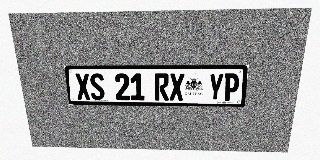1: (129, 73, 144, 100)
2: (115, 73, 130, 100)
P: (223, 73, 240, 101)
R: (154, 73, 169, 100)
S: (89, 73, 105, 100)
X: (75, 73, 91, 100), (169, 73, 184, 101)
Y: (208, 73, 224, 101)
